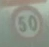limite 50: (1, 1, 48, 46)
